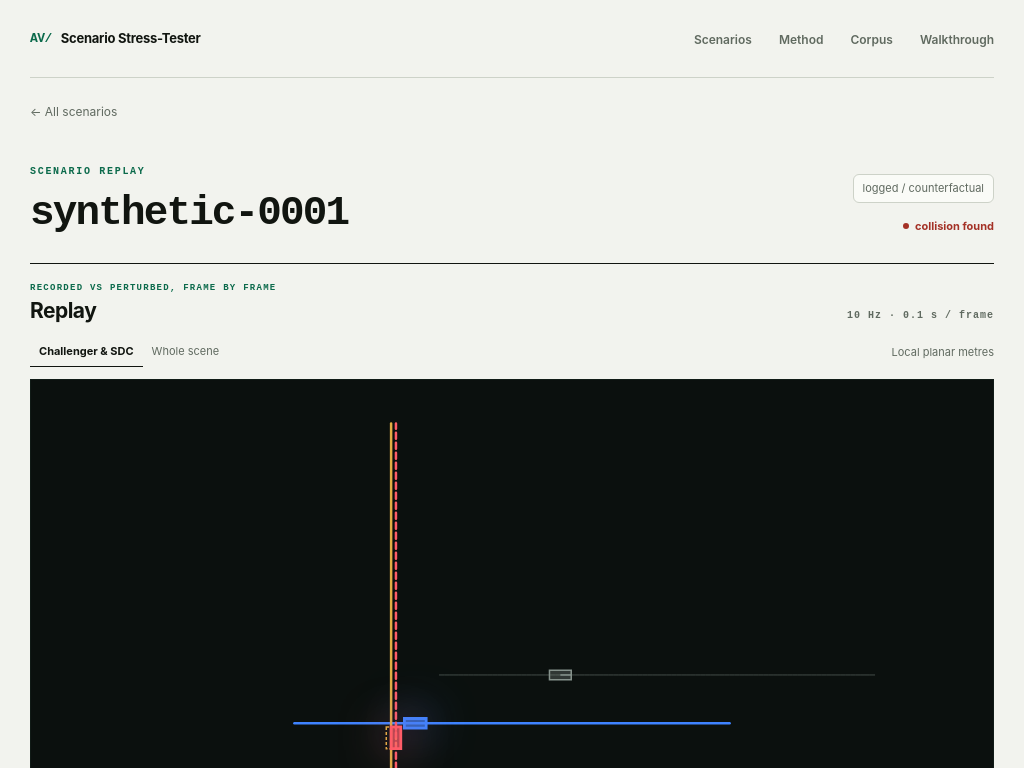
the words the project cannot back do not appear › on a scenario page in the whole-scene framing, with the caption about the other agents
This screenshot has width=1024, height=768.
Click the button "Whole scene" at (185, 352), box [143,337,228,367]
(page scrolled)
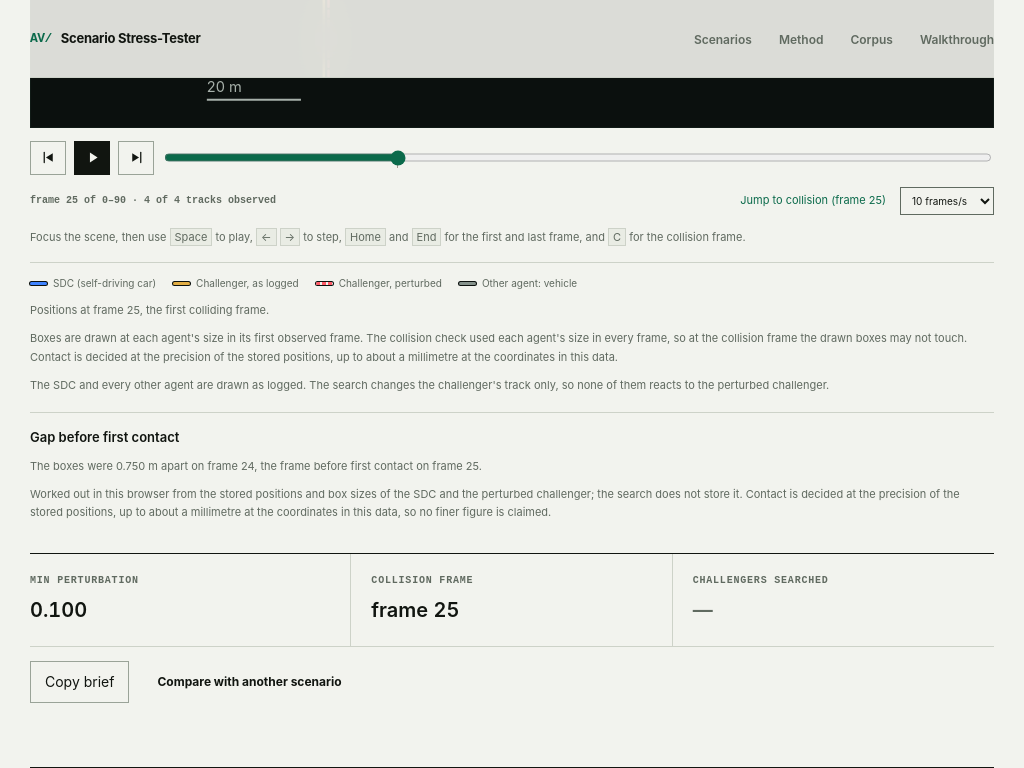
Result: the text "drawn as logged" is shown at [30,378,829,392]
